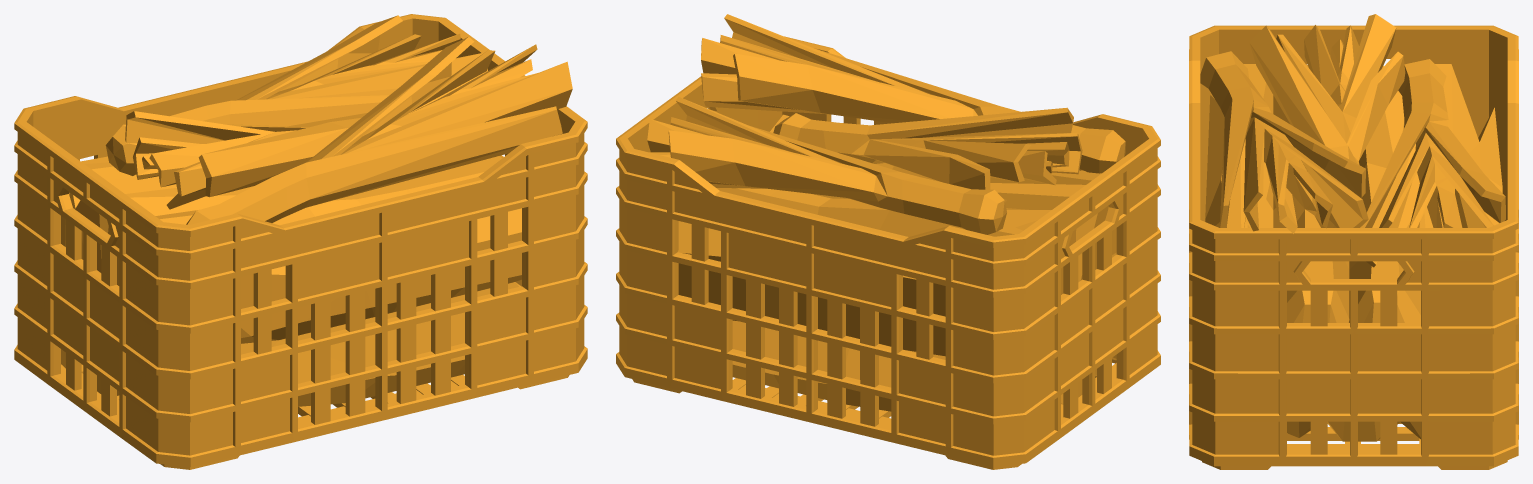
File: SM_Crate_Plastic_Big_Leek_A.fbx
The picture shows the model from 3 angles, left to right: view 1: azimuth 30°, elevation 25°; view 2: azimuth 150°, elevation 25°; view 3: azimuth 270°, elevation 25°; orthographic projection. The views are drawn at different scales.
Parts seen in each view (by area): view 1: crate-plastic-big-leek-a; view 2: crate-plastic-big-leek-a; view 3: crate-plastic-big-leek-a.
Boxes of the visible parts, left/top/right/bottom form: crate-plastic-big-leek-a: left=14, top=14, right=587, bottom=469; crate-plastic-big-leek-a: left=616, top=14, right=1160, bottom=469; crate-plastic-big-leek-a: left=1189, top=14, right=1518, bottom=469.
Size of the model in its own units: 0.6134 by 0.394 by 0.4083.
